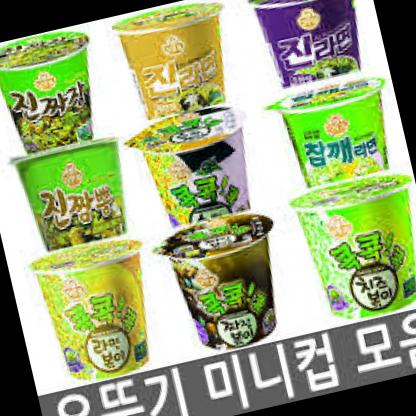Ramen: (144, 202, 302, 361), (30, 233, 176, 388), (124, 103, 272, 255), (285, 169, 416, 329), (108, 0, 249, 141), (5, 128, 143, 266), (274, 71, 408, 213), (0, 23, 115, 169), (242, 0, 384, 108)
